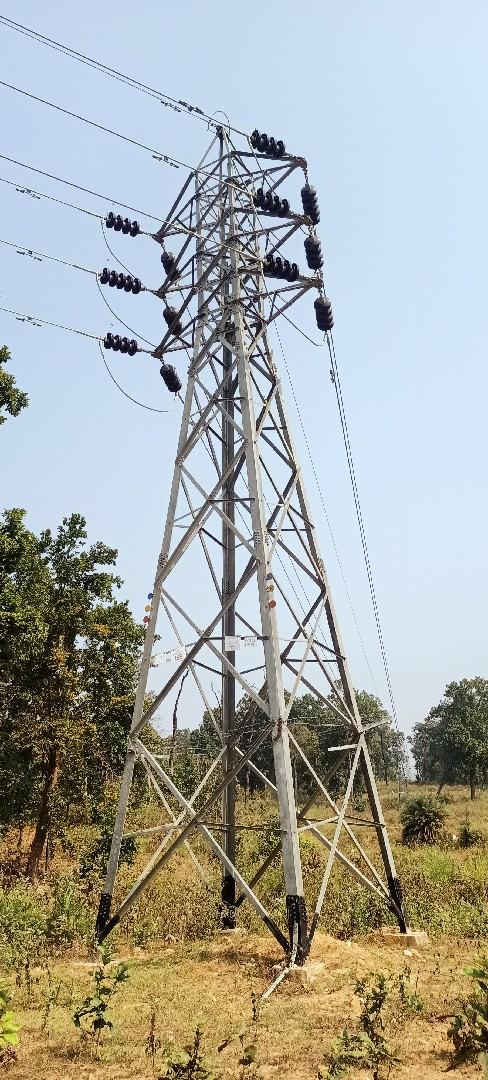GSM Antenna: (102, 112, 400, 830)
